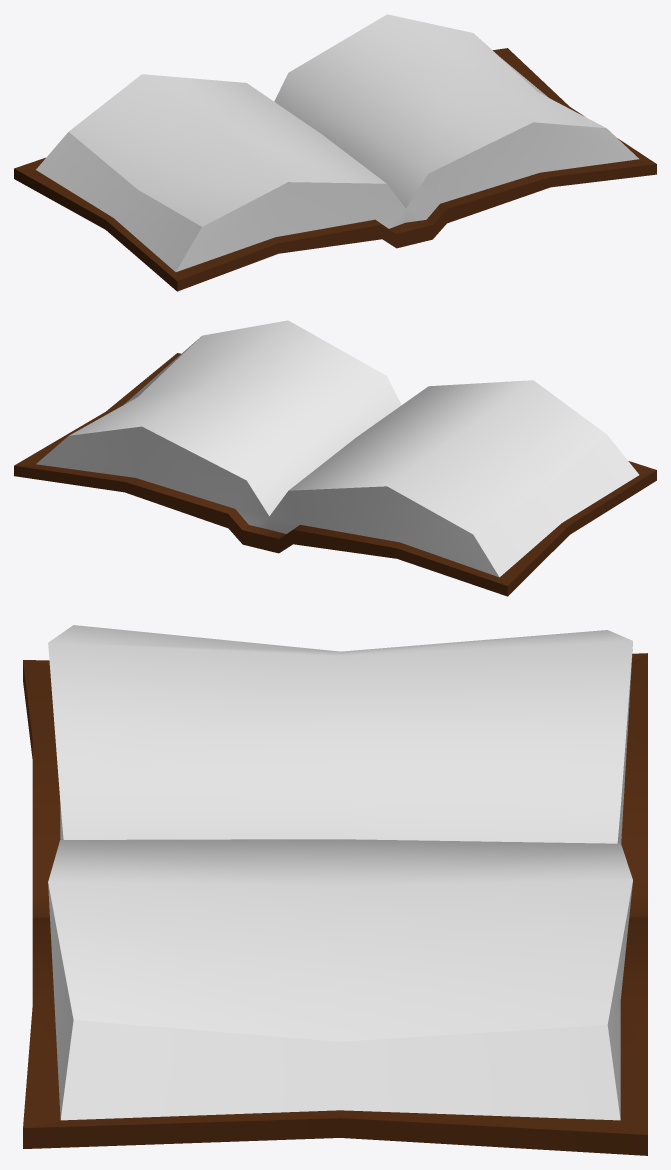
The model's file is spellBookfbx.fbx.
The picture shows the model from 3 angles, top to bottom: view 1: azimuth 30°, elevation 25°; view 2: azimuth 150°, elevation 25°; view 3: azimuth 270°, elevation 25°; orthographic projection. The views are drawn at different scales.
Visible parts, largest first — view 1: book.001, book; view 2: book.001, book; view 3: book.001, book.
Boxes of the visible parts, box(x1,y1,x2,y2) form: book.001: box(36, 14, 639, 271); book: box(14, 48, 656, 291); book.001: box(36, 320, 639, 577); book: box(14, 353, 656, 596); book.001: box(48, 625, 632, 1120); book: box(23, 653, 647, 1155).
Size of the model in its own units: 67.69 by 11.78 by 37.11.
